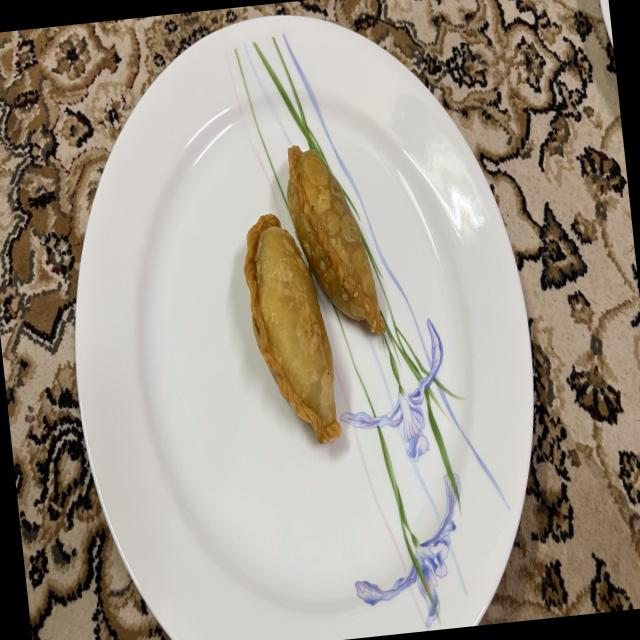karipap: (244, 213, 341, 443), (286, 146, 385, 334)
